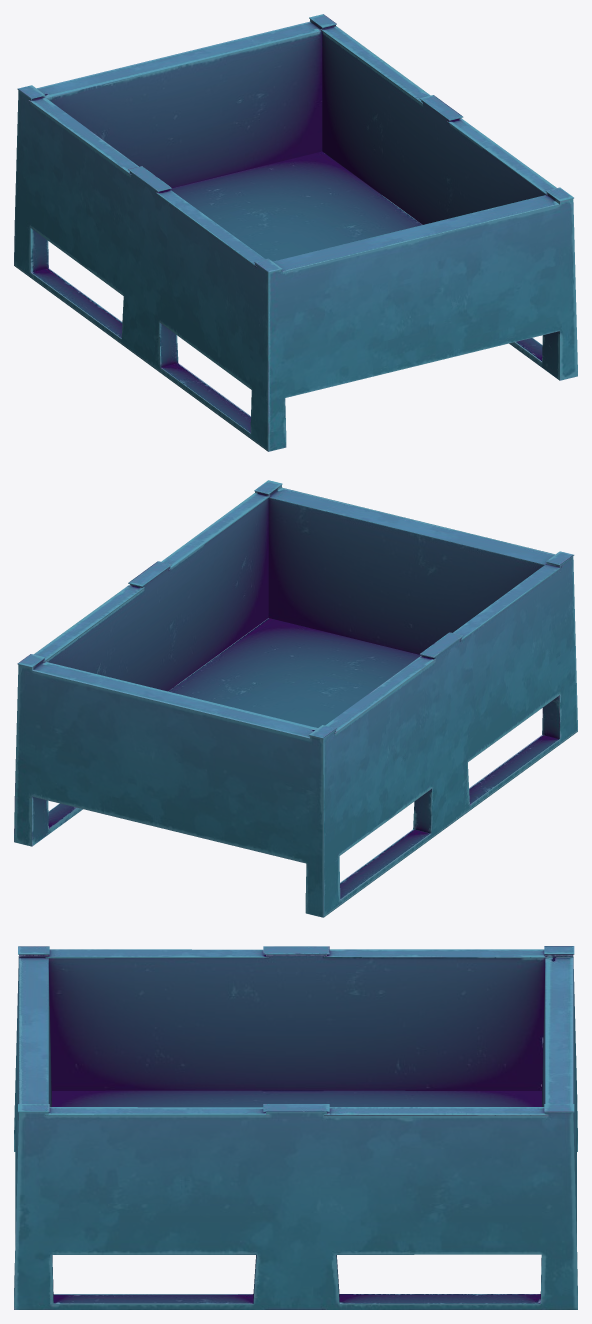
Rendered from Plastic_Container.glb.
The picture shows the model from 3 angles, top to bottom: view 1: azimuth 30°, elevation 25°; view 2: azimuth 150°, elevation 25°; view 3: azimuth 270°, elevation 25°; orthographic projection. The views are drawn at different scales.
Visible parts, largest first — view 1: Plastic_Container; view 2: Plastic_Container; view 3: Plastic_Container.
Part boxes in pixels (x1,y1,x2,y2): Plastic_Container: (14, 14, 577, 451); Plastic_Container: (14, 480, 577, 917); Plastic_Container: (14, 946, 577, 1309).
Size of the model in its own units: 1.1 by 0.604 by 1.57.
1 material, 1 textured.
